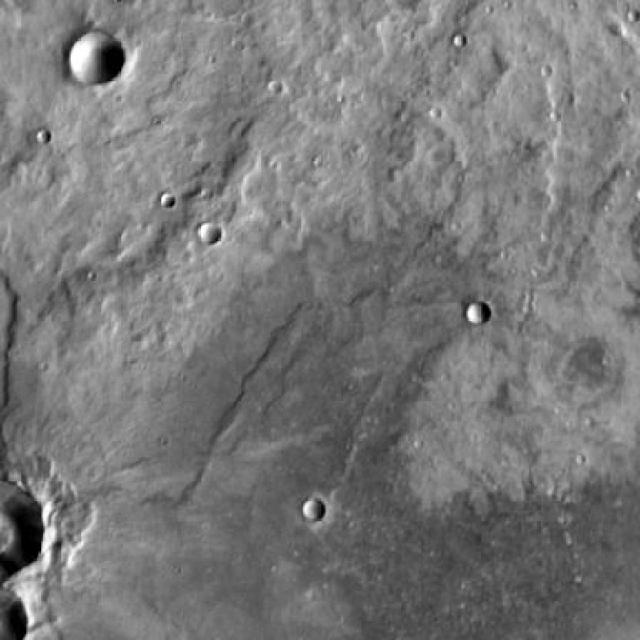crater: (531, 319, 627, 412), (66, 31, 122, 87), (301, 498, 325, 520), (196, 222, 219, 243), (466, 304, 488, 325)
